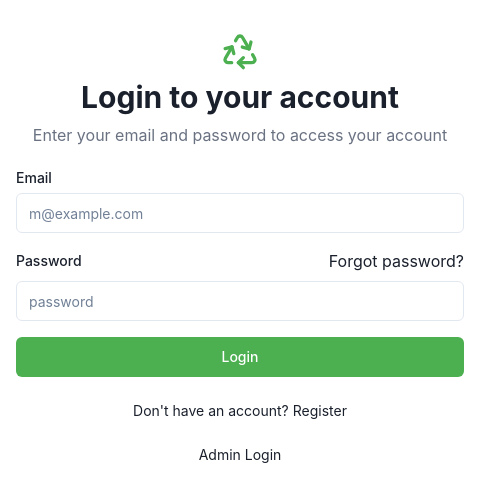
Test case: LoginPage › shows error on invalid credentials (401)
The image size is (481, 498).
Type "wrong@example.com" into the field labelled "Email". click: (240, 213)
box: [16, 193, 464, 233]
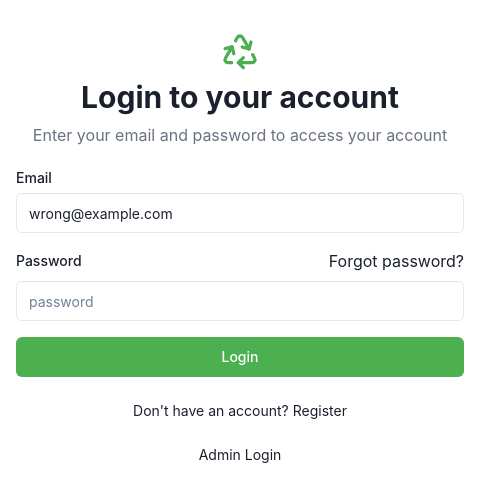
Type "wrongpass" into the password field labelled "Password". click: (240, 301)
box: [16, 281, 464, 321]
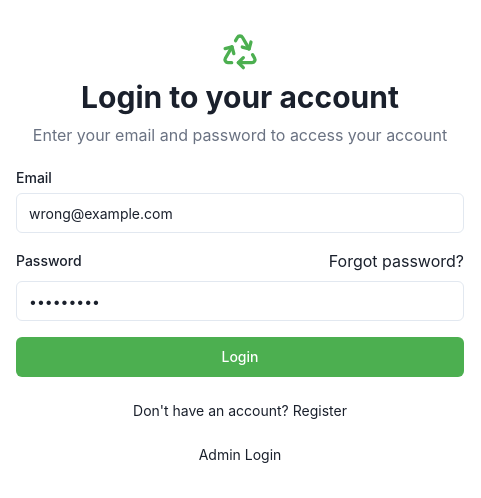
Click the button "Login". click: (240, 357)
box: [16, 337, 464, 377]
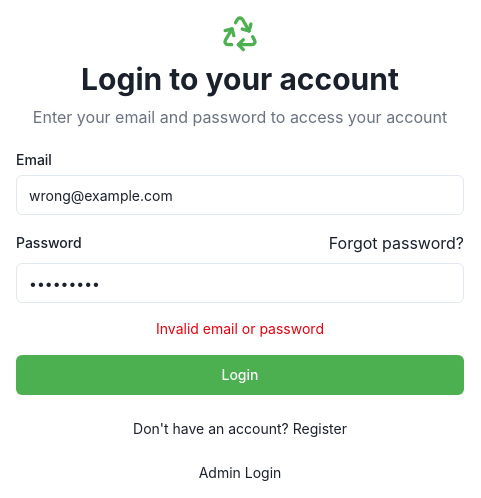
Expected: the text "Invalid email or password" is shown, [156, 320, 324, 337]
